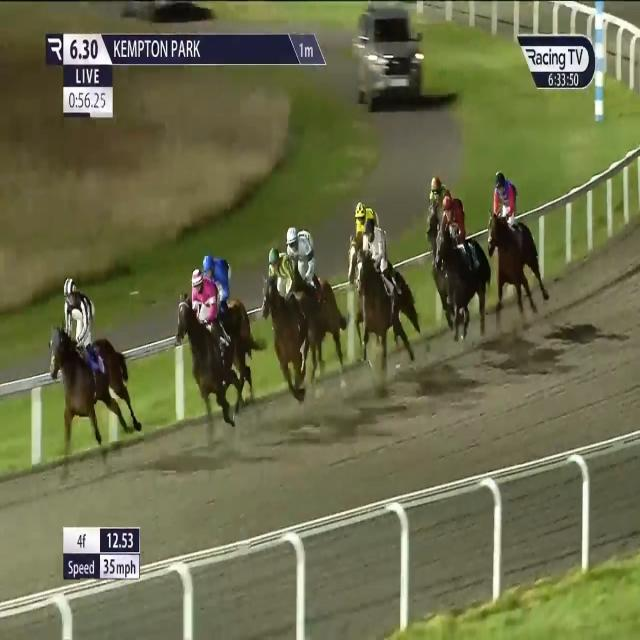horses-racing: (47, 282, 148, 446), (175, 272, 262, 412), (255, 244, 323, 396), (285, 224, 348, 372), (487, 166, 550, 309), (358, 219, 416, 361), (198, 247, 265, 354), (441, 196, 492, 330), (349, 194, 391, 300), (429, 172, 456, 269)
